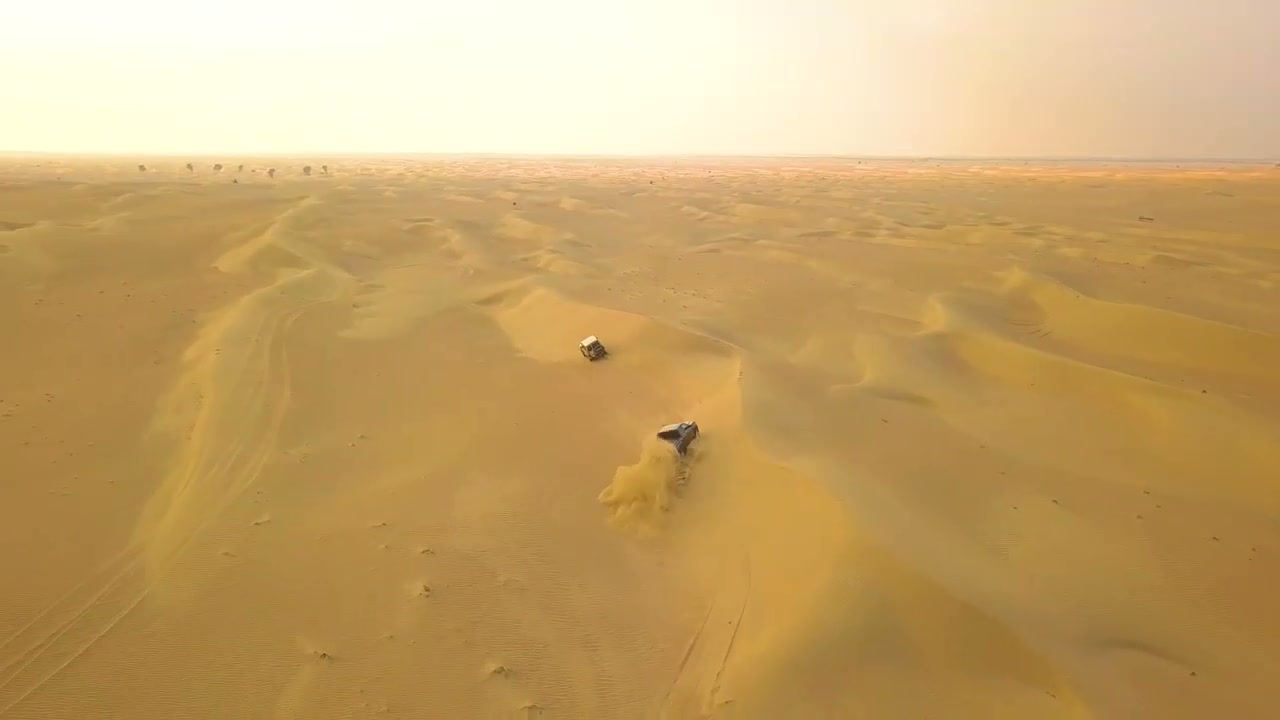vehicle_track: (0, 302, 313, 713), (660, 486, 757, 719)
